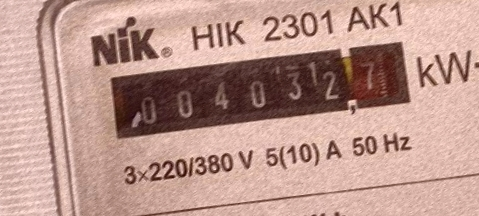0: (138, 93, 162, 128), (174, 88, 198, 123), (247, 77, 270, 113)
2: (320, 68, 343, 104)
3: (284, 70, 307, 104)
4: (210, 79, 235, 118)
7: (361, 60, 382, 95)
screen: (100, 29, 423, 159)
